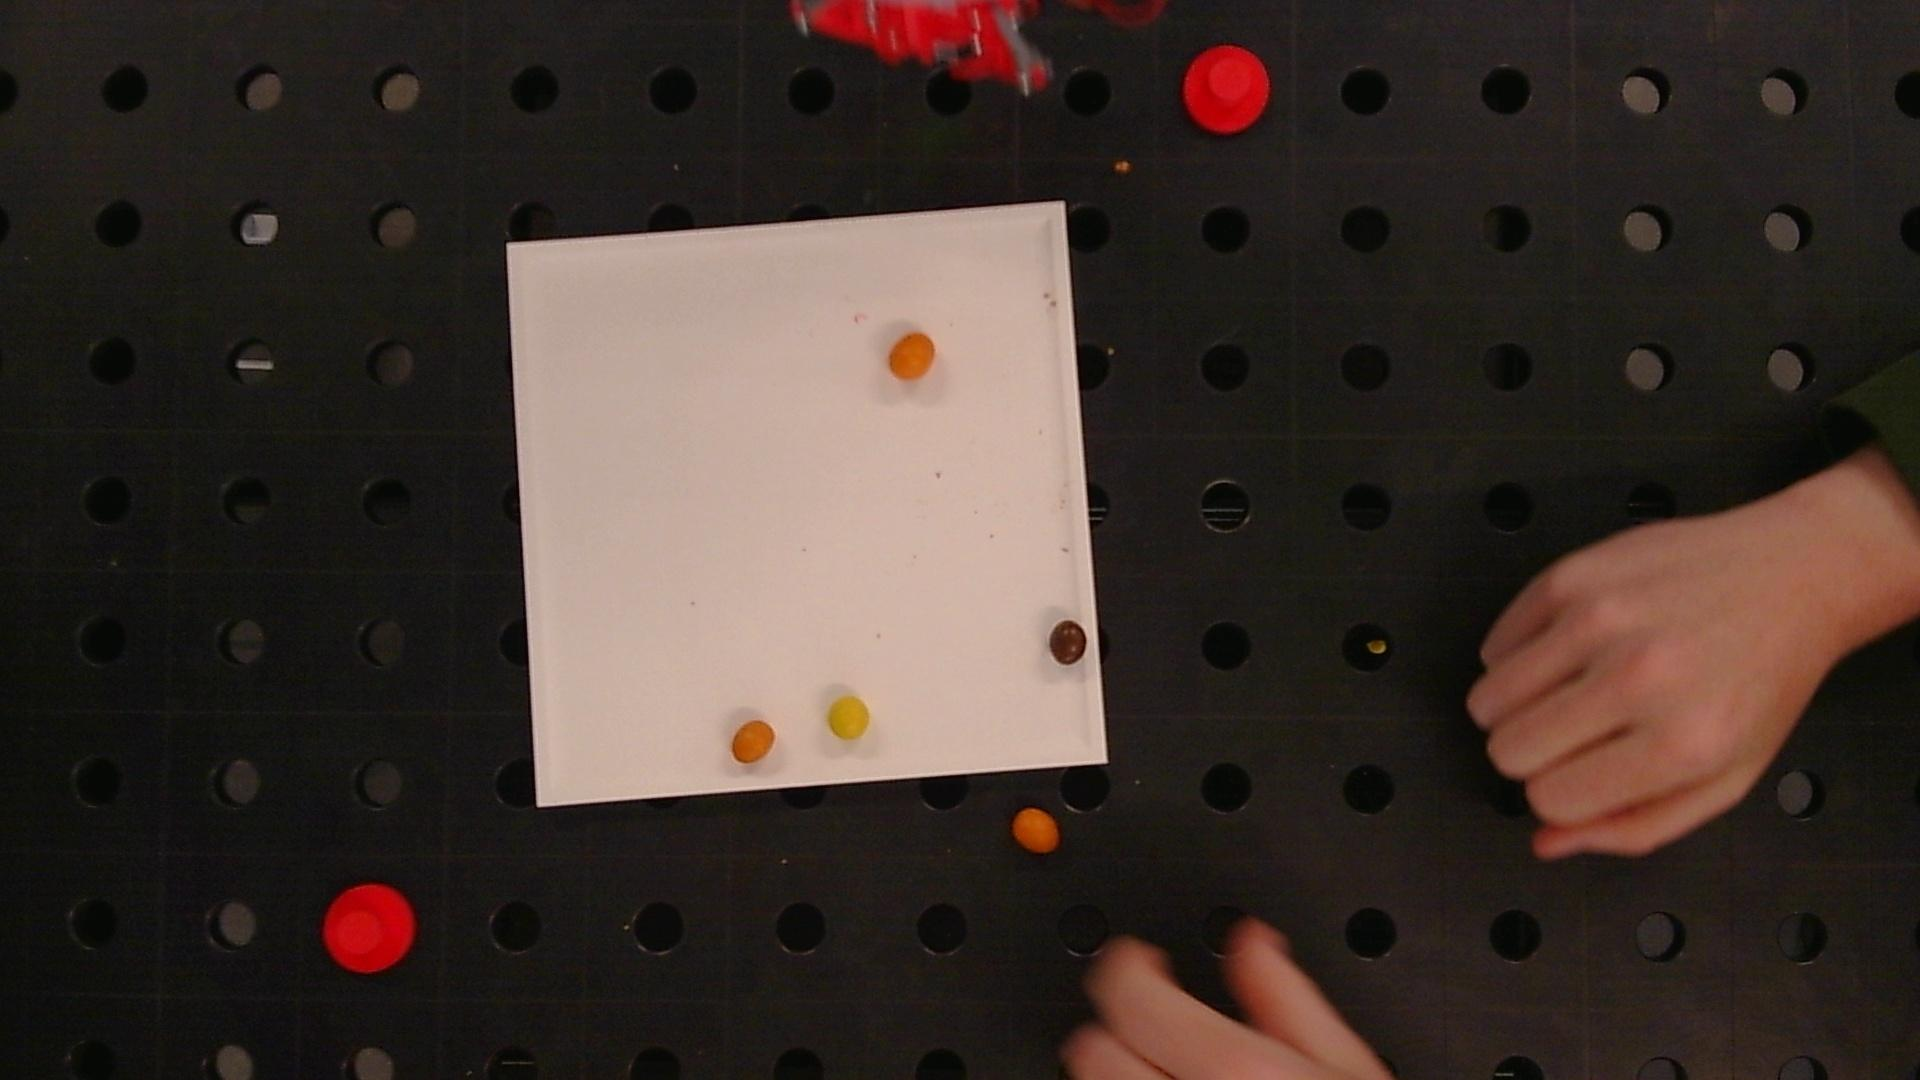brown: (1048, 620, 1088, 665)
orange: (1010, 807, 1060, 853), (889, 332, 936, 380), (732, 720, 775, 764)
yellow: (828, 696, 870, 738)
